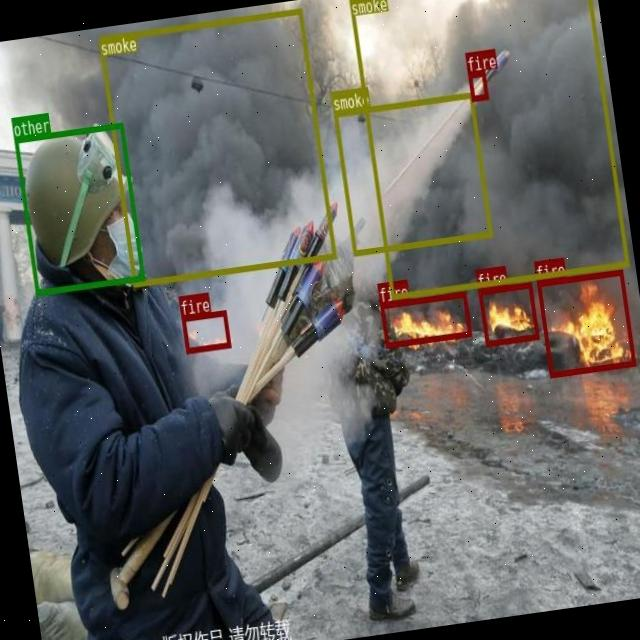fire: (536, 268, 636, 376), (381, 290, 472, 348), (477, 282, 539, 346), (181, 309, 231, 353), (468, 70, 488, 100)
smoke: (349, 0, 629, 298), (98, 8, 336, 286), (333, 92, 492, 255)
